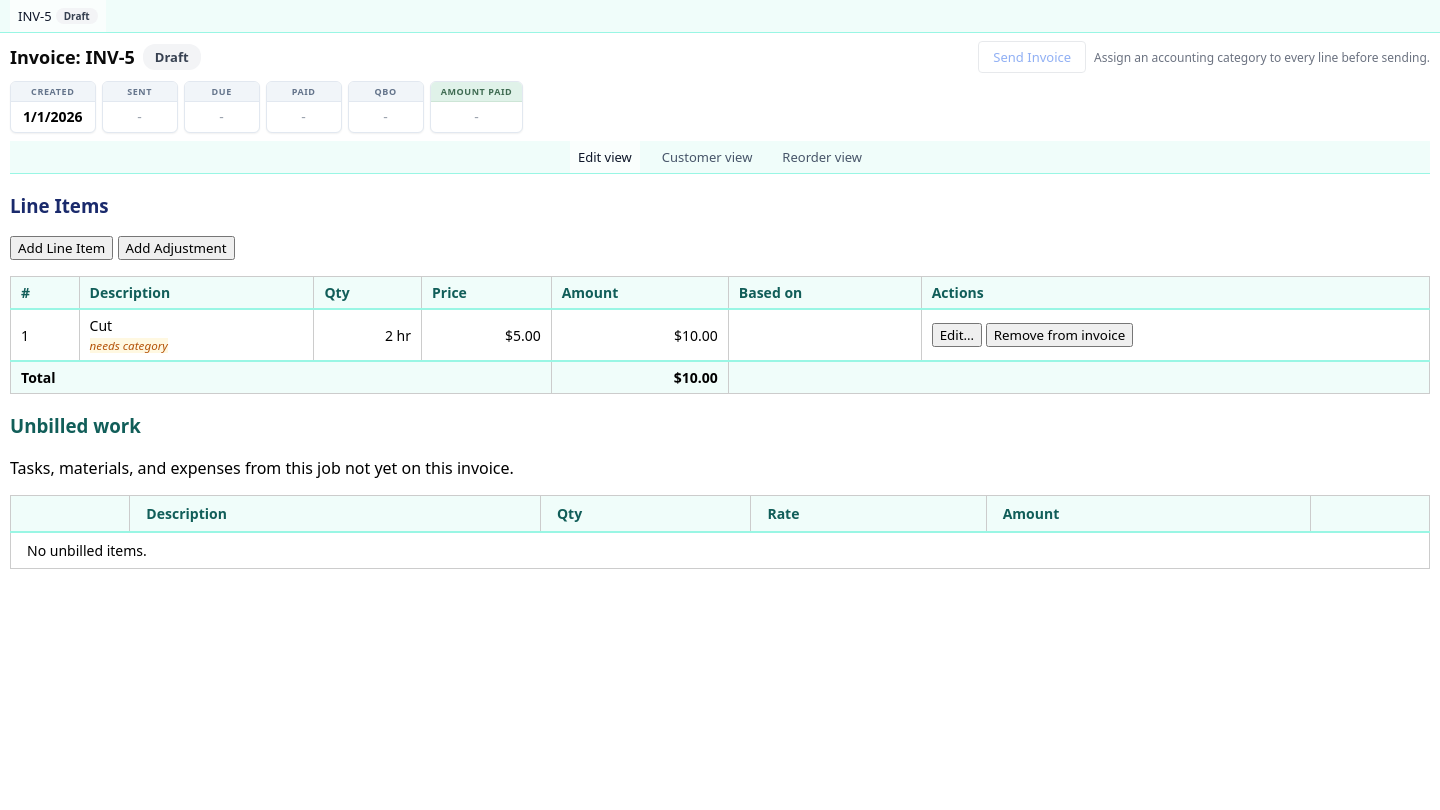
Test case: InvoicePanel mode bar › switches between Edit / Customer / Reorder views in place and persists the choice per docId
Expected: the text "Cut" is shown, [90,316,112,335]
What coordinates should you click on to do the following:
click the button "Customer view"
I would click on:
 (707, 157)
Its box is [654,141,760,173].
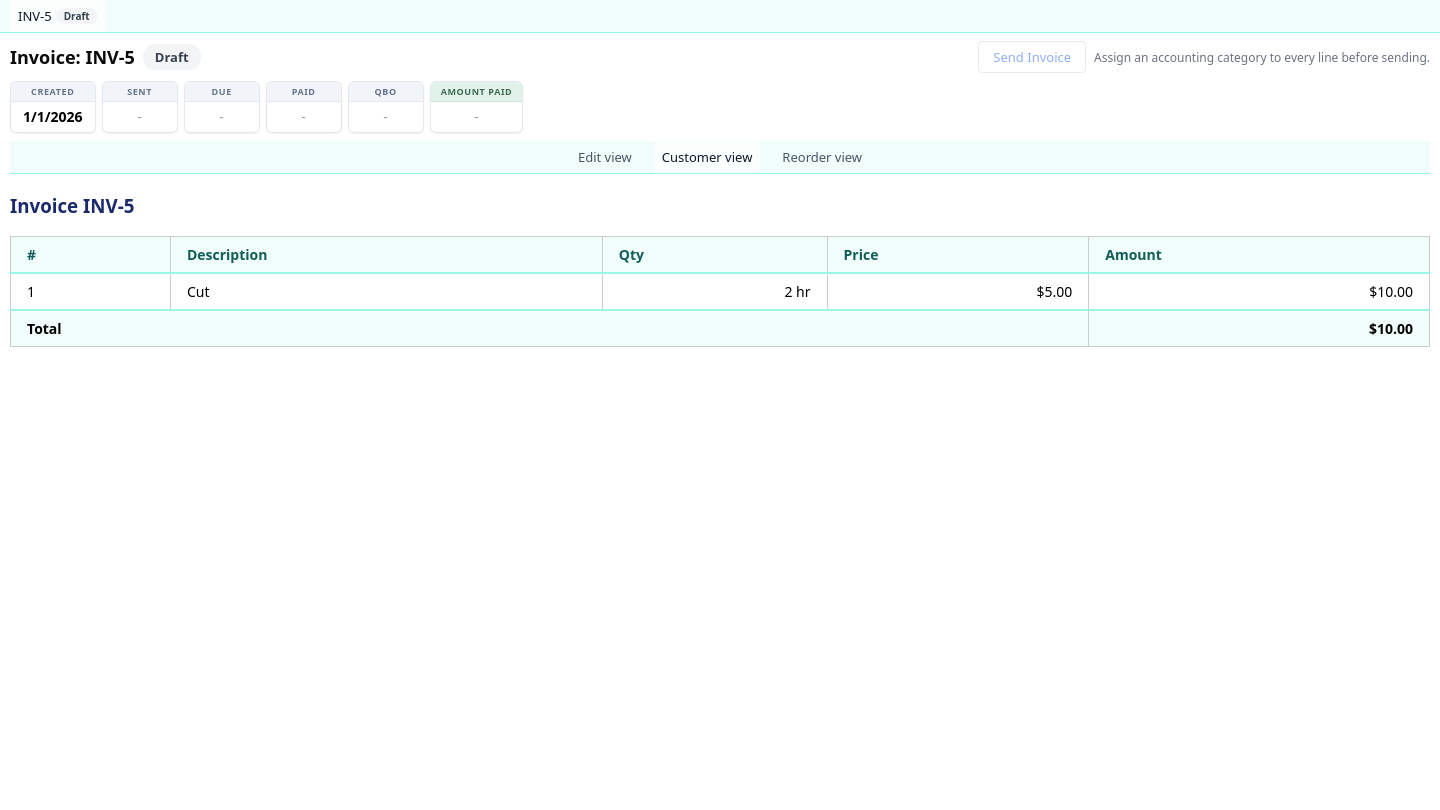
Now the heading "Invoice INV-5" is shown, box [10,193,134,218]
Now the button "Add Line Item" is gone
What coordinates should you click on to do the following:
click the button "Reorder view"
I would click on:
 (822, 157)
Its box is [774,141,870,173].
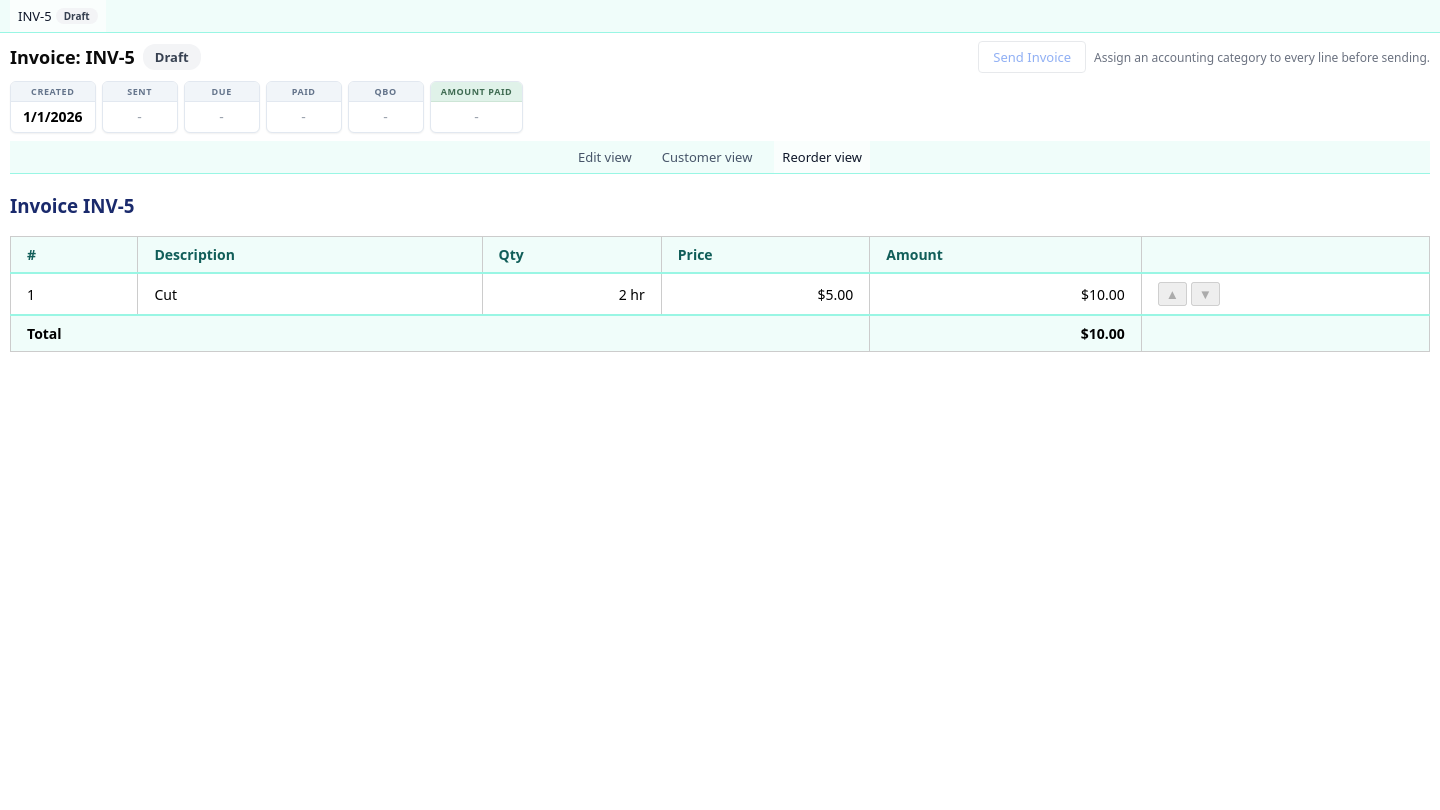
Now the cell with class "doc-reorder-arrows" is shown, box [1141,273,1430,315]
What coordinates should you click on to do the following:
click the button "Edit view"
I would click on:
 (605, 157)
Its box is [570,141,640,173].
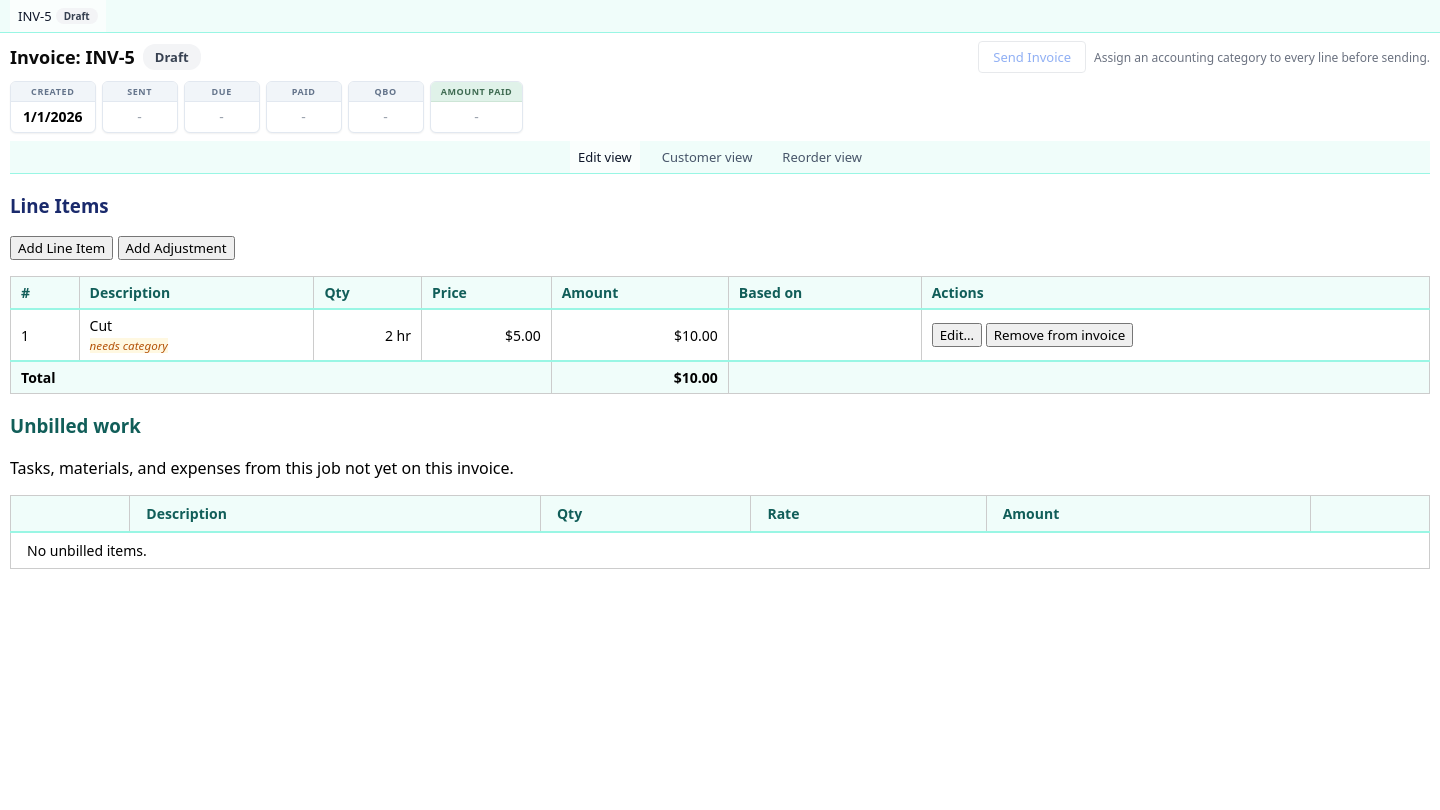
Now the button "Add Line Item" is shown, box [10,236,113,260]
